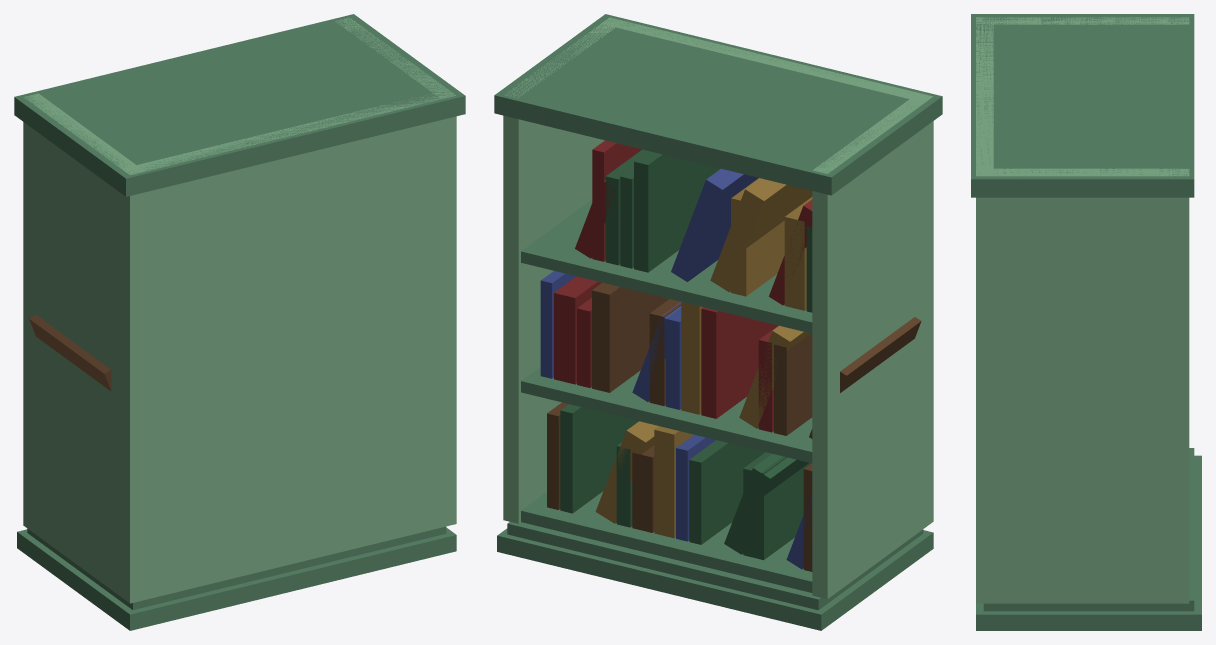
The model's file is green_dungeon_bookcase_v0.glb.
3 views of the same model, side by side, from view 1: azimuth 30°, elevation 25°; view 2: azimuth 150°, elevation 25°; view 3: azimuth 270°, elevation 25° (orthographic).
Visible parts, largest first — view 1: green_dungeon_bookcase_v0; view 2: green_dungeon_bookcase_v0; view 3: green_dungeon_bookcase_v0.
Part boxes in pixels (x1,y1,x2,y2): green_dungeon_bookcase_v0: (14, 14, 465, 630); green_dungeon_bookcase_v0: (494, 14, 942, 630); green_dungeon_bookcase_v0: (971, 14, 1201, 630).
Bounding box in the file's own units: 1.56 × 2 × 0.92.
